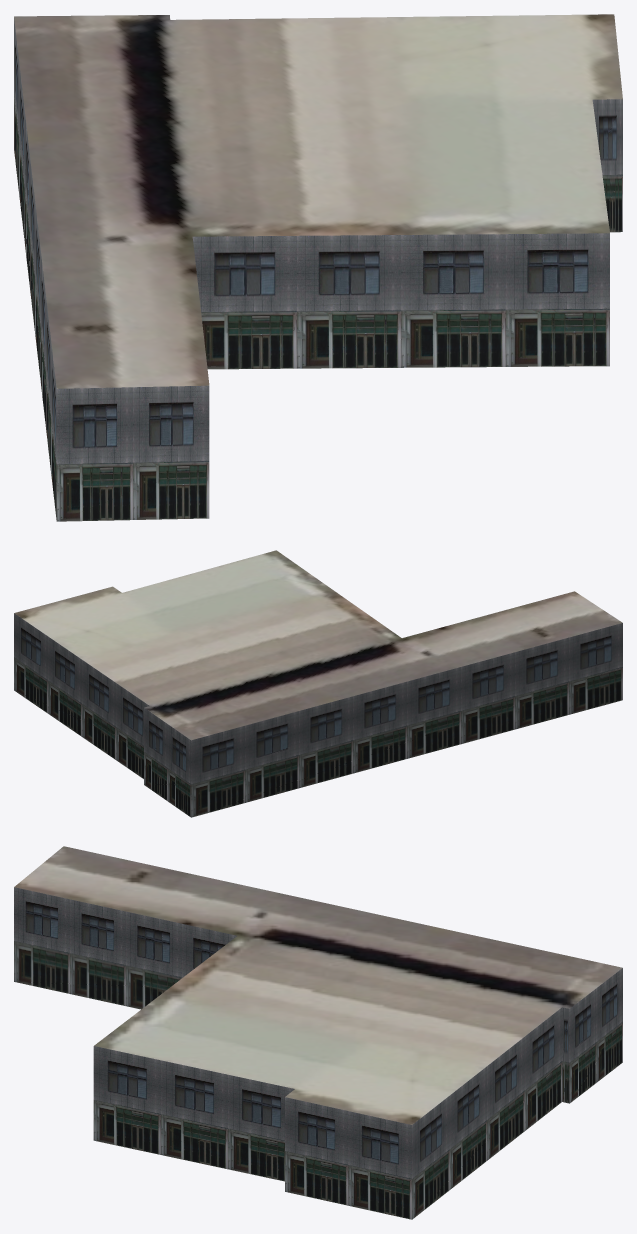
Rendered from T_1SXP04NU4T.dae.
3 renders of one model, top to bottom at view 1: azimuth 30°, elevation 25°; view 2: azimuth 150°, elevation 25°; view 3: azimuth 270°, elevation 25°, orthographic. The views are drawn at different scales.
Visible parts, largest first — view 1: SketchUp (×9); view 2: SketchUp (×7); view 3: SketchUp (×11).
Boxes of the visible parts, x1=… form: SketchUp (×9): x1=14, y1=14, x2=622, y2=521; SketchUp (×7): x1=14, y1=550, x2=622, y2=817; SketchUp (×11): x1=14, y1=846, x2=622, y2=1219.
Bounding box in the file's own units: 48.27 × 44.53 × 7.64.
Materials: 3 (3 with a texture image).
